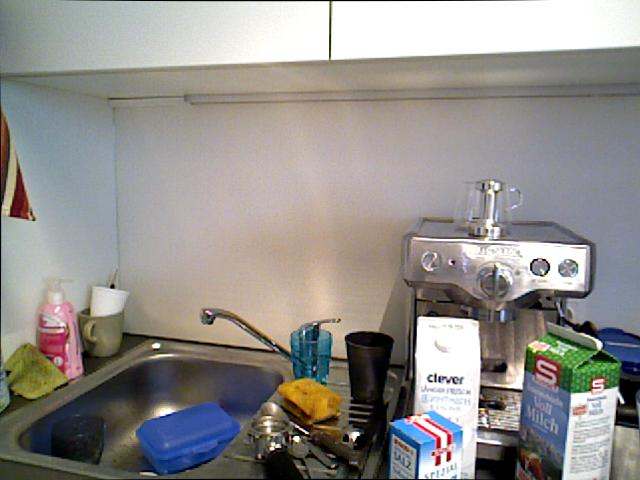bench: (523, 322, 615, 480), (414, 318, 478, 480), (36, 273, 85, 381)
couch: (0, 345, 290, 479)
handbag: (344, 330, 394, 404), (455, 180, 521, 235), (48, 417, 111, 467), (290, 328, 332, 385), (77, 307, 124, 357)
